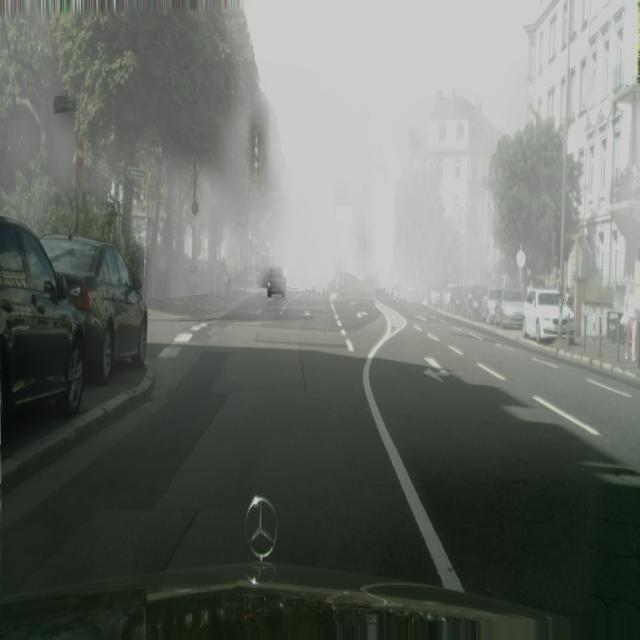bus: (623, 282, 638, 361)
person: (0, 216, 88, 432), (40, 232, 148, 384), (522, 287, 576, 345), (494, 288, 524, 329), (481, 286, 501, 324), (469, 285, 486, 321), (267, 268, 286, 298), (427, 283, 442, 307), (450, 289, 464, 314), (399, 284, 412, 301)
